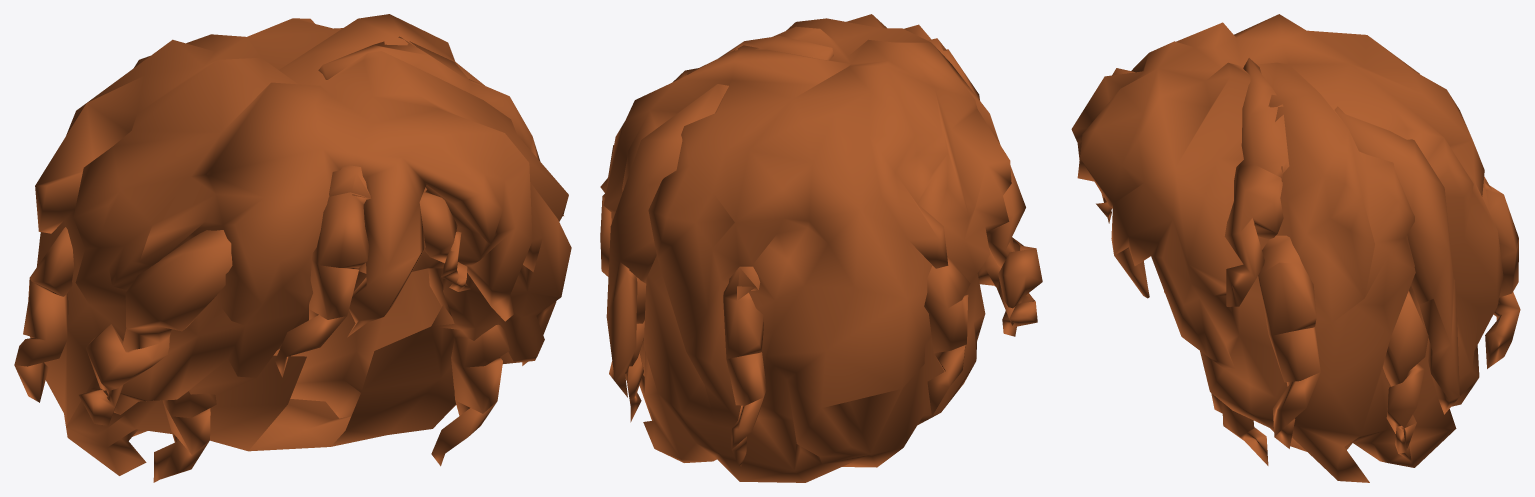
3 renders of one model, left to right at view 1: azimuth 30°, elevation 25°; view 2: azimuth 150°, elevation 25°; view 3: azimuth 270°, elevation 25°, orthographic. The views are drawn at different scales.
Parts seen in each view (by area): view 1: Wolf3D_Hair.101; view 2: Wolf3D_Hair.101; view 3: Wolf3D_Hair.101.
Part boxes in pixels (box(x1,y1,x2,y2)): Wolf3D_Hair.101: box(14, 14, 571, 482); Wolf3D_Hair.101: box(600, 14, 1042, 482); Wolf3D_Hair.101: box(1071, 14, 1520, 482).
Size of the model in its own units: 0.3106 by 0.2793 by 0.3002.
1 material, 1 textured.
